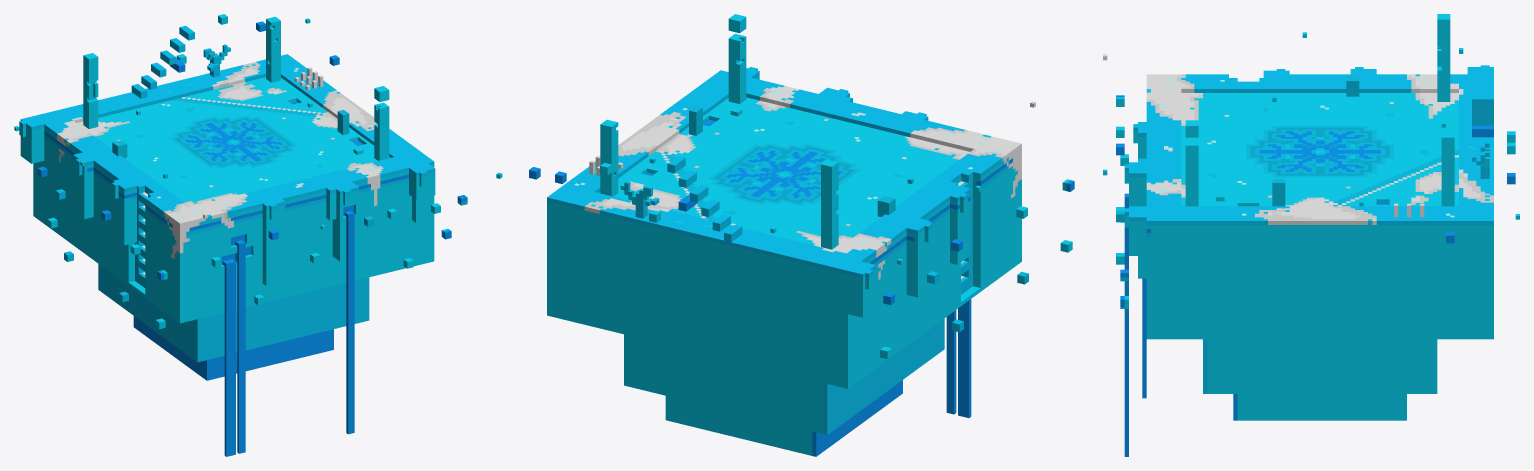
File: Map_cold.fbx
The picture shows the model from 3 angles, left to right: view 1: azimuth 30°, elevation 25°; view 2: azimuth 150°, elevation 25°; view 3: azimuth 270°, elevation 25°; orthographic projection. The views are drawn at different scales.
Parts seen in each view (by area): view 1: Map_cold; view 2: Map_cold; view 3: Map_cold.
Part boxes in pixels (left/top/right/bottom): Map_cold: left=14, top=14, right=467, bottom=456; Map_cold: left=496, top=14, right=1074, bottom=456; Map_cold: left=1103, top=14, right=1519, bottom=456.
Size of the model in its own units: 100 by 93 by 96.
